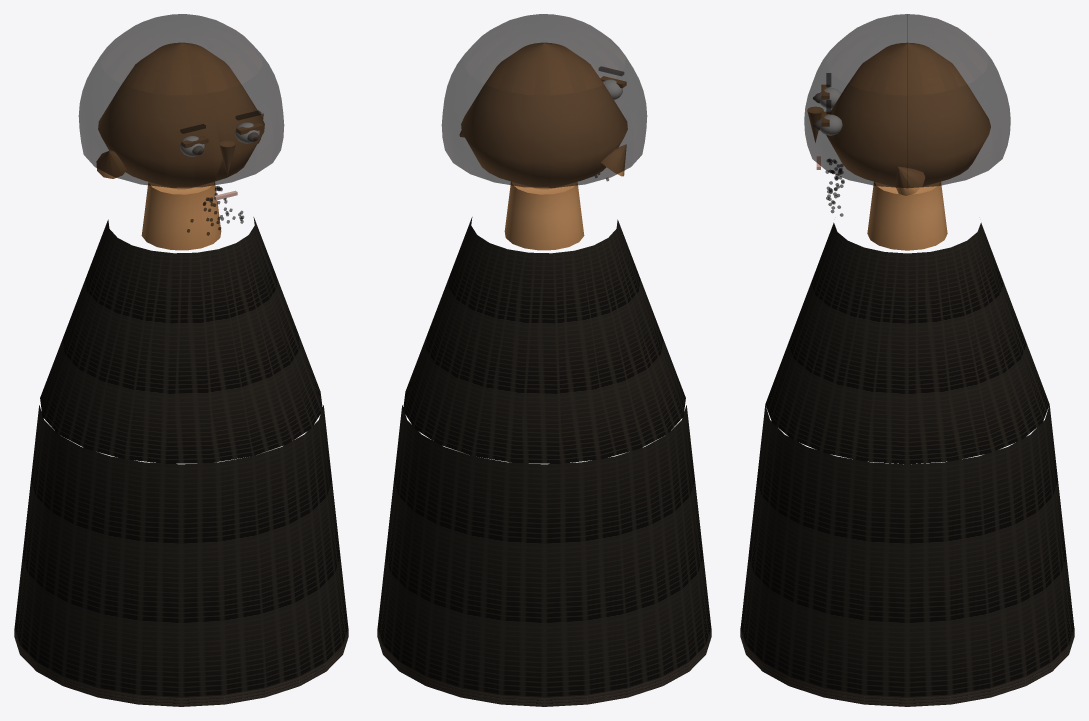
File: ananias.glb
The picture shows the model from 3 angles, left to right: view 1: azimuth 30°, elevation 25°; view 2: azimuth 150°, elevation 25°; view 3: azimuth 270°, elevation 25°; orthographic projection.
Visible parts, largest first — view 1: Character_ananias_the_false_witness, head; view 2: Character_ananias_the_false_witness, head; view 3: Character_ananias_the_false_witness, head.
Part boxes in pixels (<box>): Character_ananias_the_false_witness: <box>14,14,348,706</box>; head: <box>98,43,264,189</box>; Character_ananias_the_false_witness: <box>377,14,711,706</box>; head: <box>461,43,627,189</box>; Character_ananias_the_false_witness: <box>740,14,1074,706</box>; head: <box>826,43,990,187</box>.
Bounding box in the file's own units: 0.8903 × 1.8 × 0.8903.
9 materials, 5 textured.
